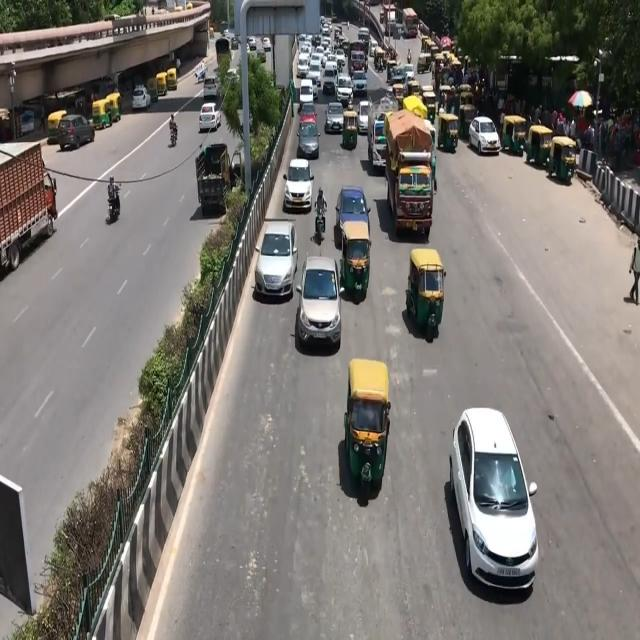Bike: (314, 188, 329, 243)
Truck: (382, 114, 449, 238)
